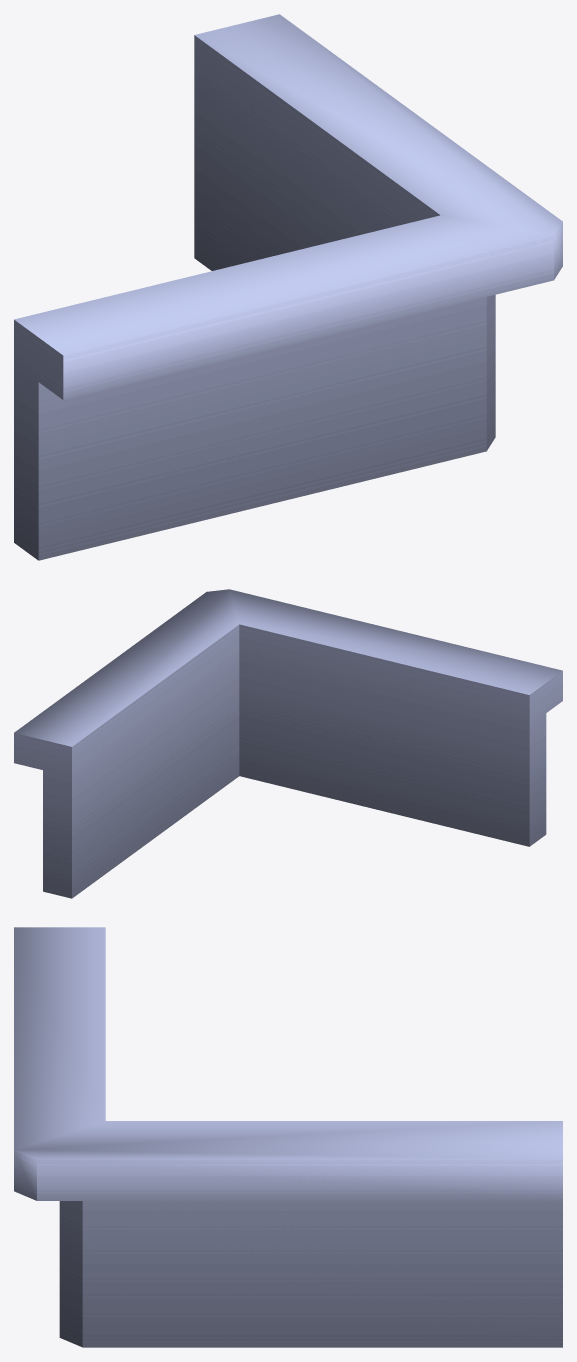
The model's file is border_high_corner_small.glb.
3 renders of one model, top to bottom at view 1: azimuth 30°, elevation 25°; view 2: azimuth 150°, elevation 25°; view 3: azimuth 270°, elevation 25°, orthographic. The views are drawn at different scales.
Parts seen in each view (by area): view 1: border-high-corner-small; view 2: border-high-corner-small; view 3: border-high-corner-small.
Part boxes in pixels (x1,y1,x2,y2): border-high-corner-small: (14,14,562,560); border-high-corner-small: (14,589,562,898); border-high-corner-small: (14,927,562,1347).
Bounding box in the file's own units: 1.2 × 0.5 × 1.2.
1 material, 1 textured.
